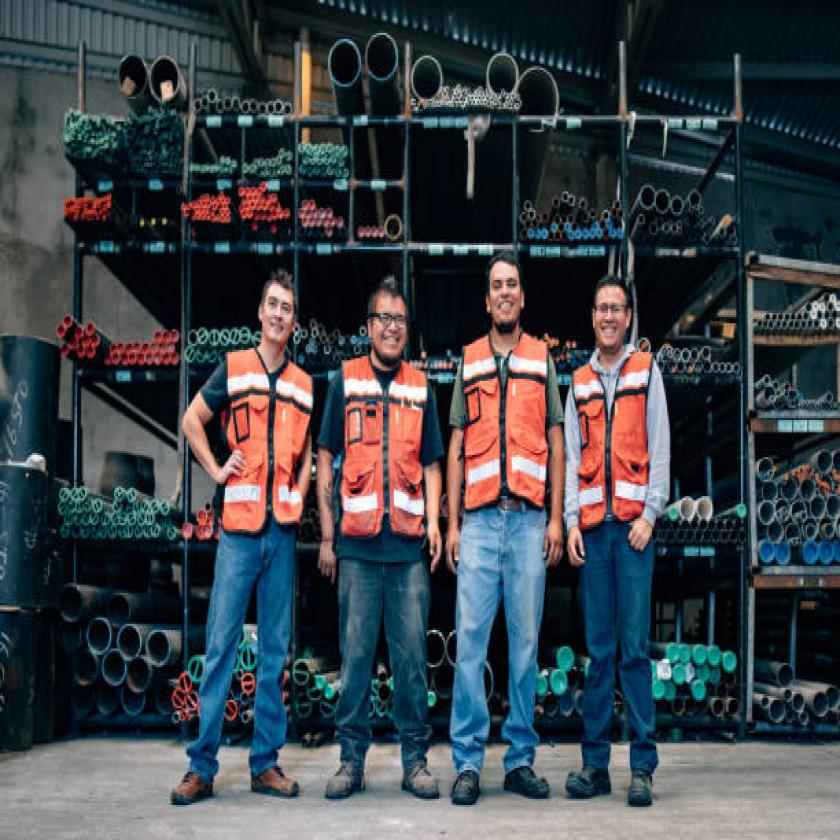Sin_casco: (361, 258, 415, 372), (589, 261, 646, 358), (477, 253, 528, 340), (255, 266, 297, 355)
